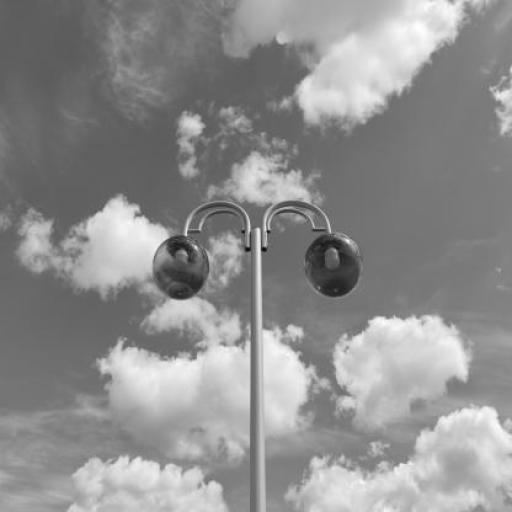street light: (151, 198, 364, 512)
